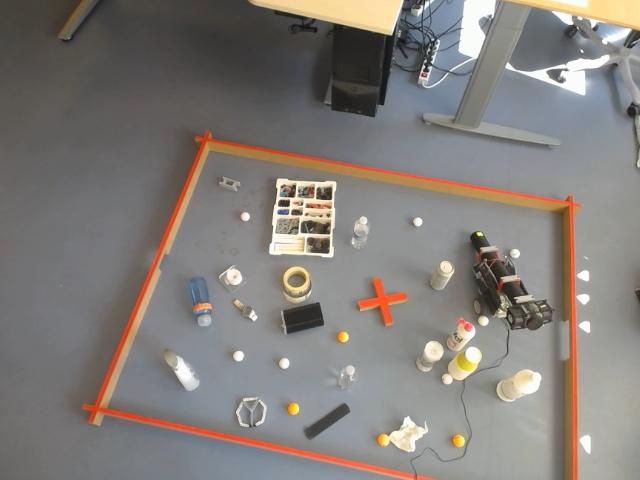orange: (286, 402, 300, 416), (452, 434, 466, 448), (336, 330, 349, 344), (376, 433, 389, 446)
robot: (470, 231, 554, 331)
robot-front: (474, 231, 484, 238)
white: (231, 350, 246, 363), (278, 357, 292, 370), (239, 210, 251, 223), (478, 314, 489, 326), (442, 373, 452, 385), (413, 217, 423, 226), (510, 249, 520, 258)
